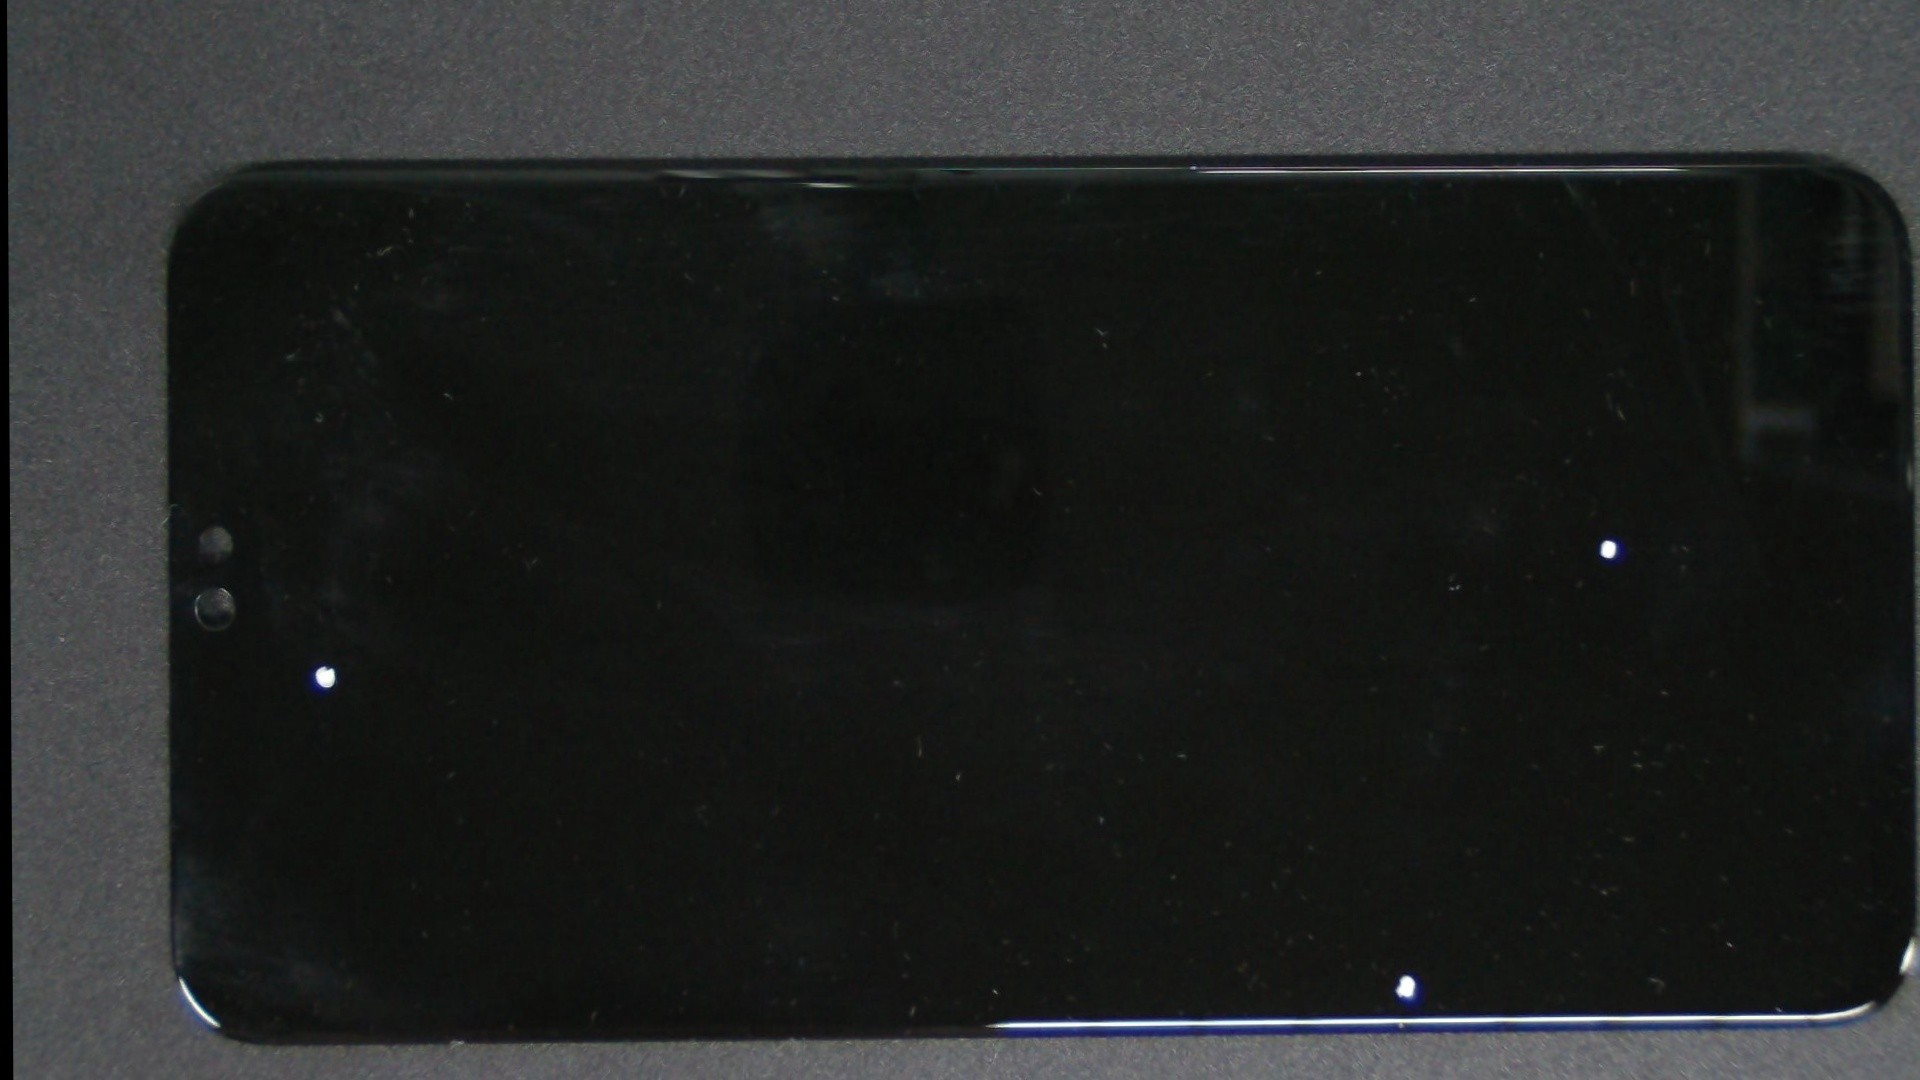oil: (707, 444, 1920, 1080), (807, 228, 1920, 851), (166, 297, 484, 1031)
